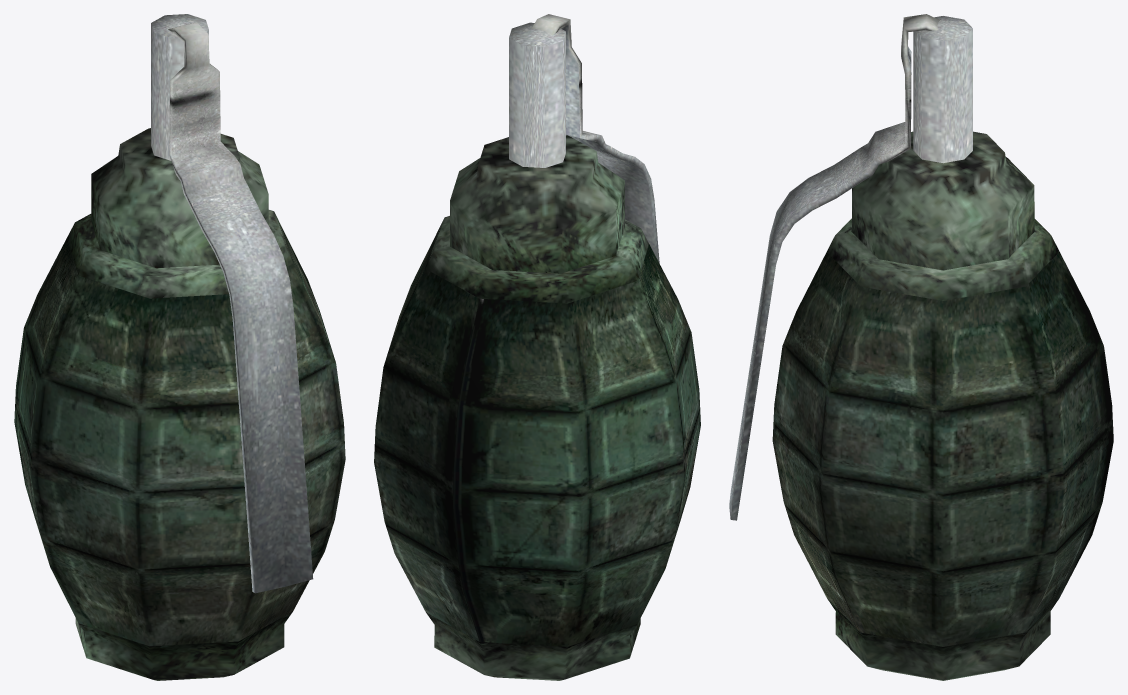
Rendered from осколочная граната.fbx.
The picture shows the model from 3 angles, left to right: view 1: azimuth 30°, elevation 25°; view 2: azimuth 150°, elevation 25°; view 3: azimuth 270°, elevation 25°; orthographic projection.
Parts seen in each view (by area): view 1: осколочная граната; view 2: осколочная граната; view 3: осколочная граната.
Boxes of the visible parts, <box> form: осколочная граната: <box>14,14,345,680</box>; осколочная граната: <box>374,14,700,680</box>; осколочная граната: <box>729,14,1113,680</box>.
Size of the model in its own units: 687 by 1386 by 774.
1 material, 1 textured.
